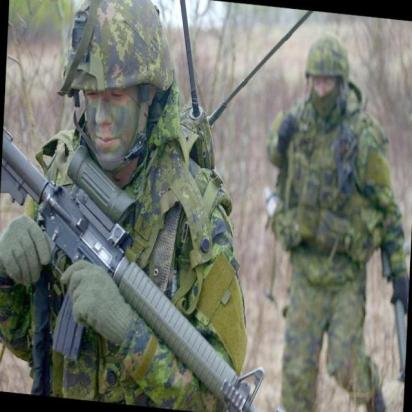Gun: (0, 122, 262, 412)
